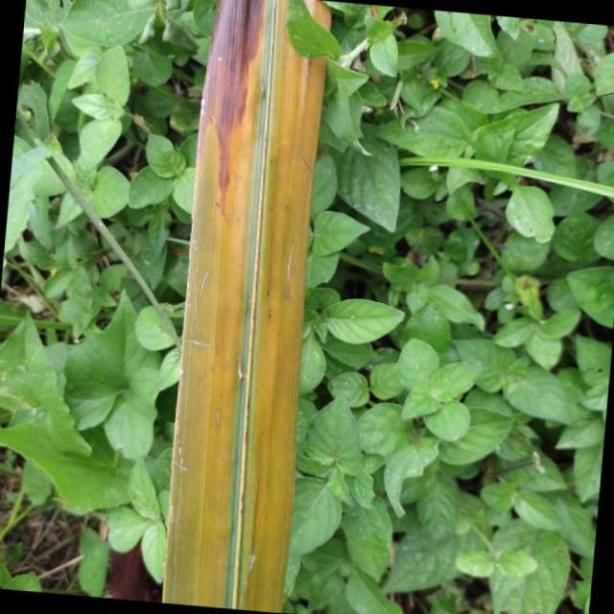Megnesium: (160, 0, 337, 614)
